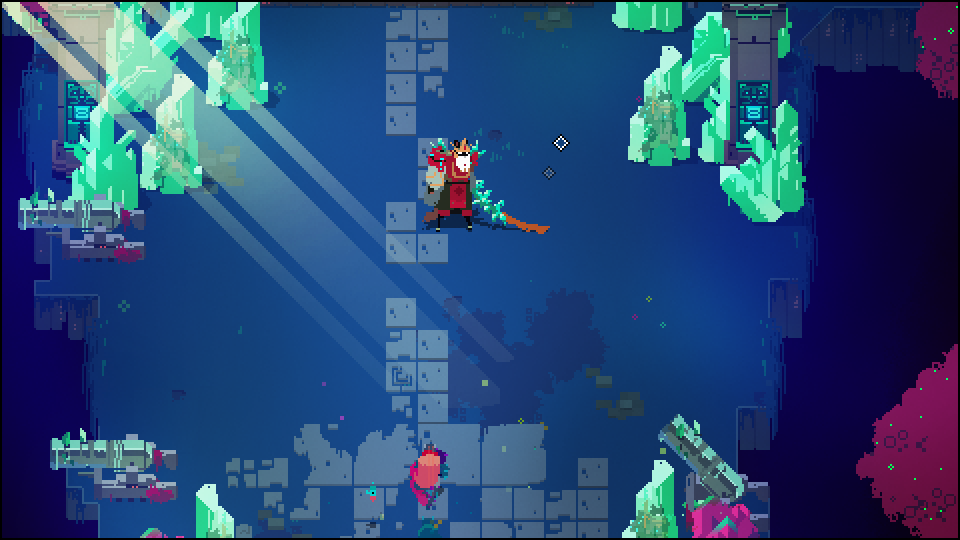hanged_man: (419, 135, 514, 233)
player: (414, 437, 443, 485)
